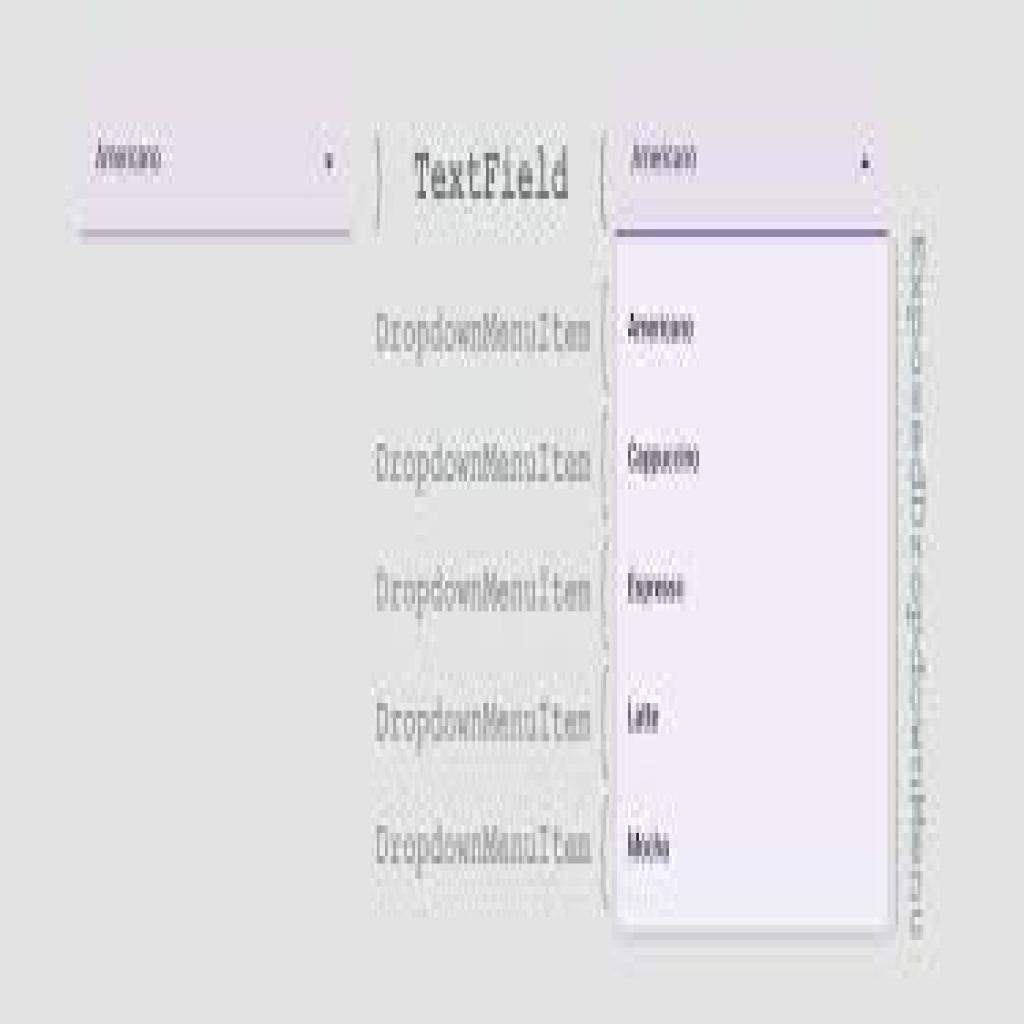dropdown: (71, 60, 357, 238), (619, 95, 891, 236)
